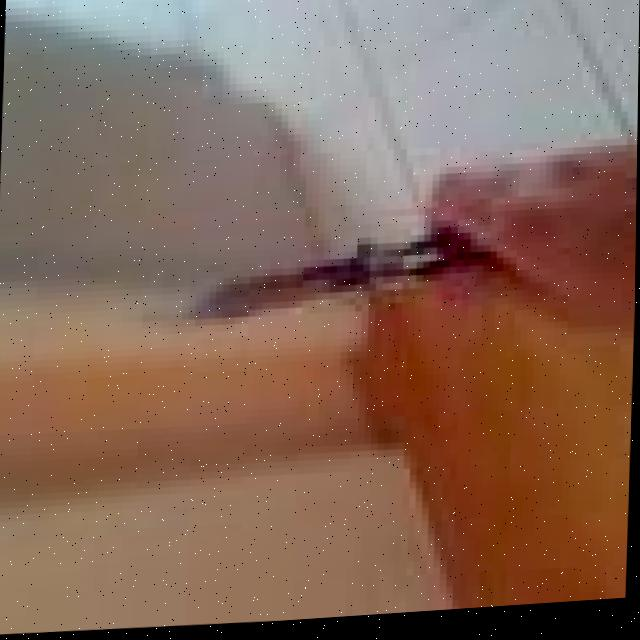knife: (174, 223, 452, 357)
